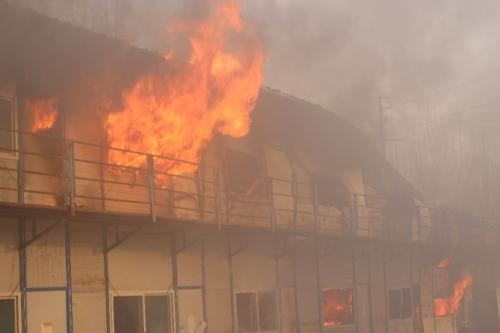fire: (112, 15, 268, 174), (26, 90, 70, 143), (434, 273, 478, 317)
